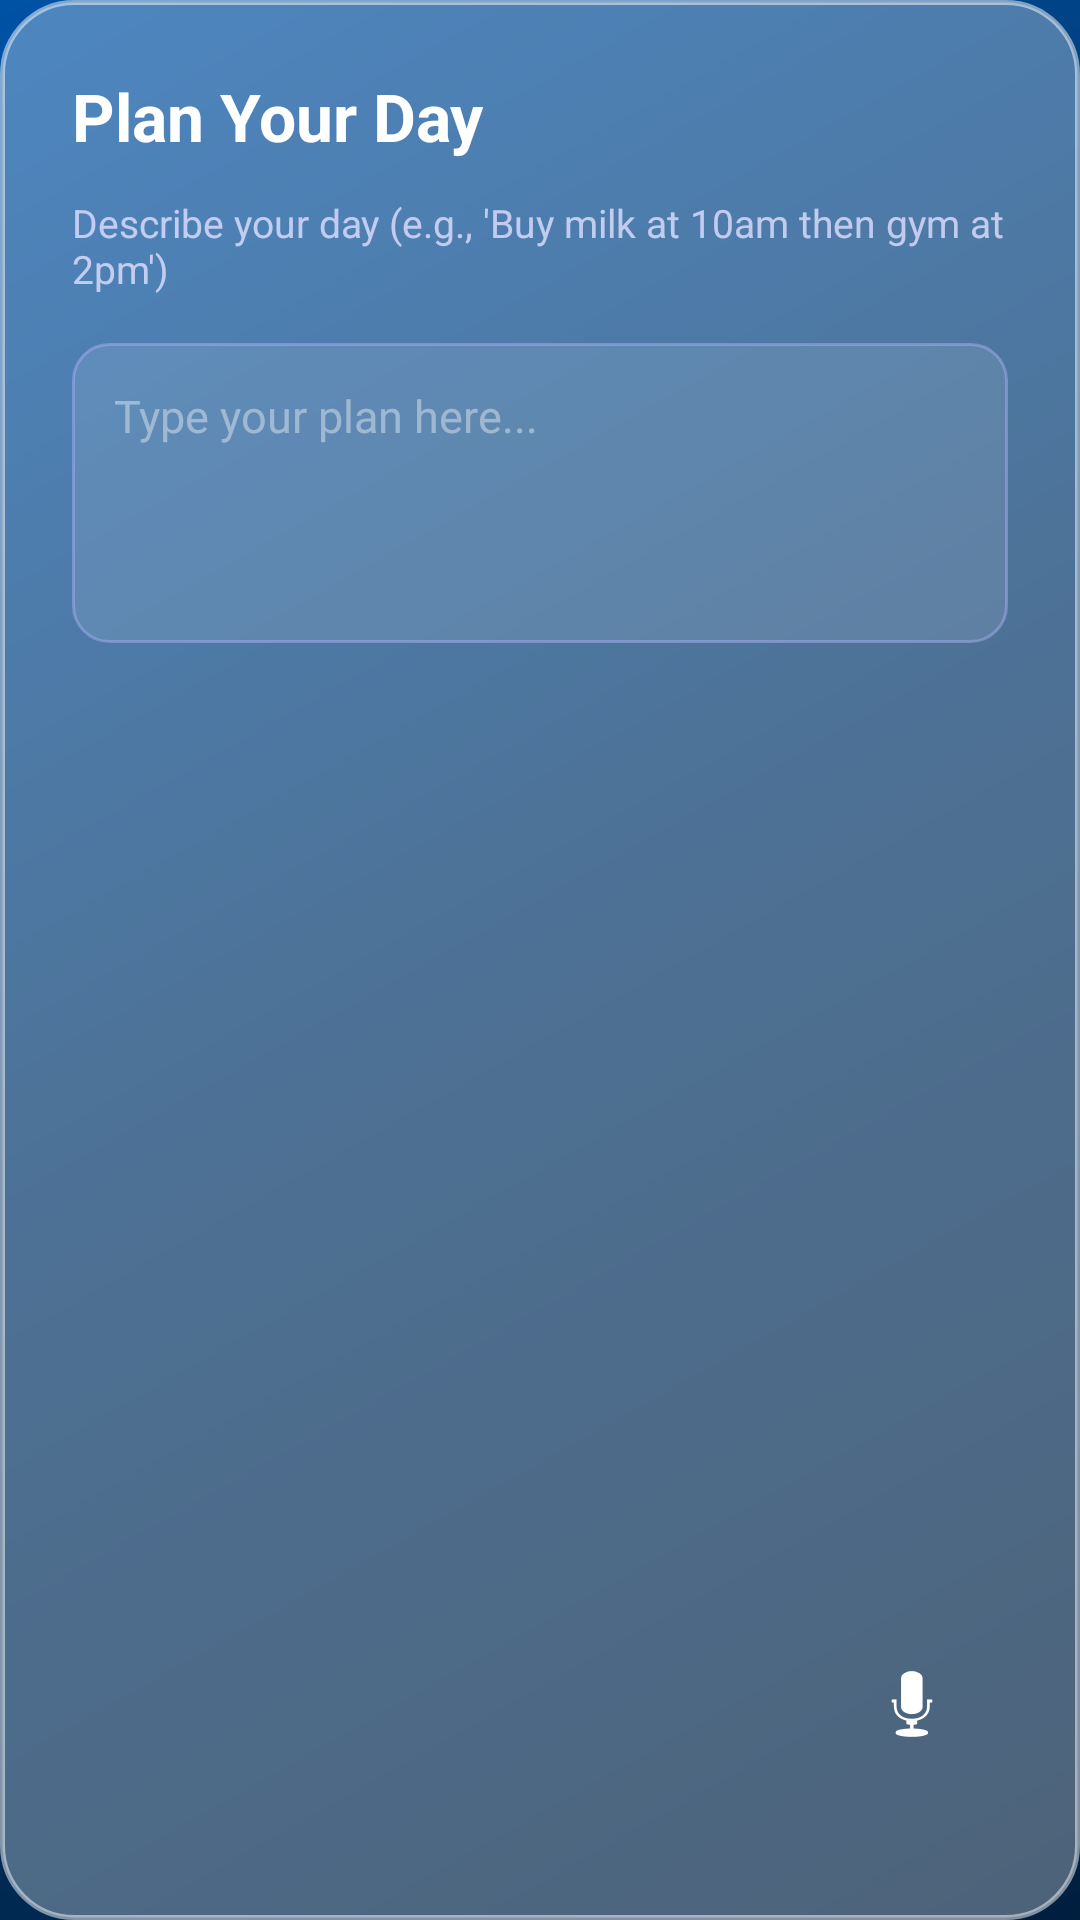

Named icons in this screenshot (1080*1920) and their centers, (x=x, y=y):
Voice input: (x=912, y=1704)
